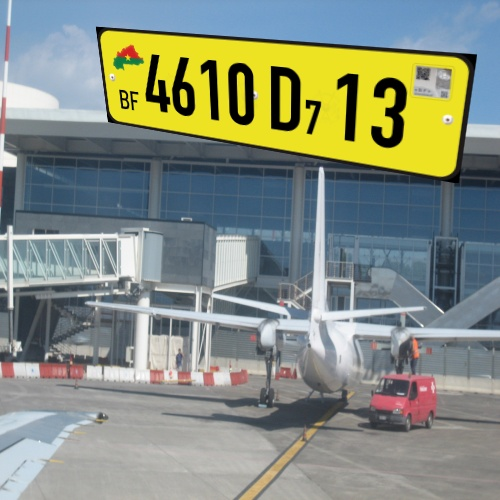plate: (87, 17, 488, 196)
